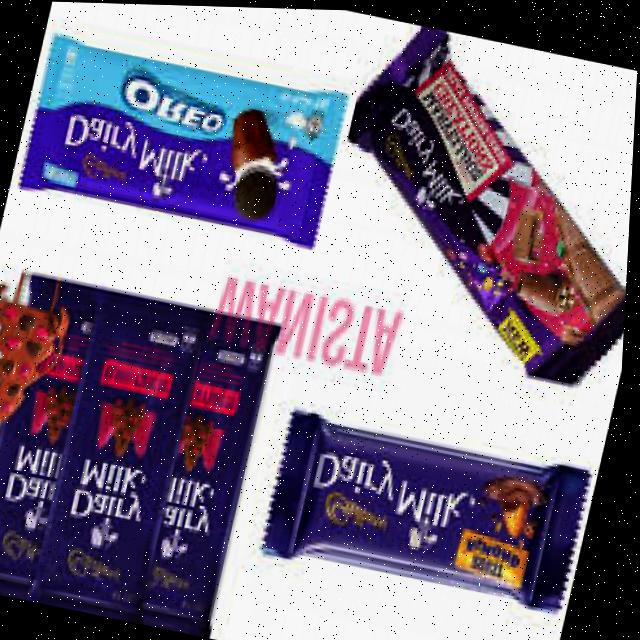cadbury: (307, 16, 640, 392), (19, 28, 352, 248), (261, 406, 601, 614), (88, 296, 291, 639), (37, 287, 216, 620), (0, 270, 151, 608)
